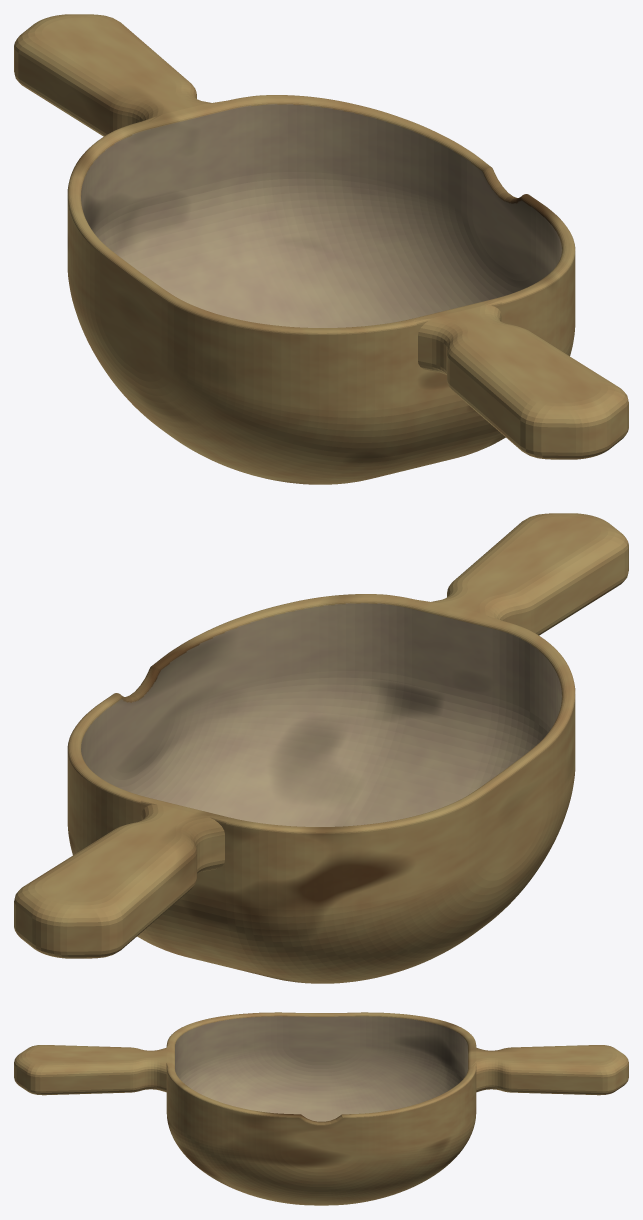
Rendered from PahkakuppiVareilla.fbx.
3 views of the same model, one above another, from view 1: azimuth 30°, elevation 25°; view 2: azimuth 150°, elevation 25°; view 3: azimuth 270°, elevation 25° (orthographic). The views are drawn at different scales.
Parts seen in each view (by area): view 1: Cube; view 2: Cube; view 3: Cube.
Boxes of the visible parts, bbox=[...] form: Cube: bbox=[14, 14, 628, 484]; Cube: bbox=[14, 513, 628, 983]; Cube: bbox=[14, 1012, 628, 1205].
Bounding box in the file's own units: 62.86 × 36.09 × 157.
2 materials, 2 textured.
